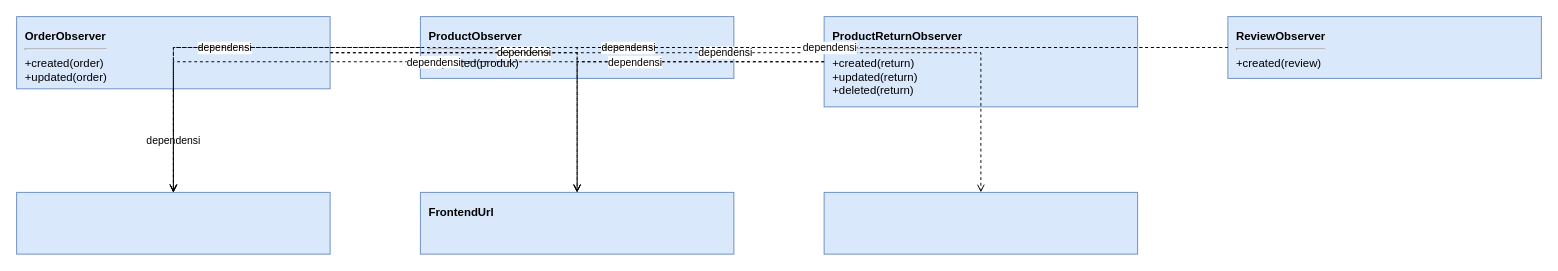
Image size: 1558x271. Some labels were removed from this diagram. The centre of each missing label's shape, as x and y in pixels:
Notification: point (173, 222)
Produk: point (980, 222)
